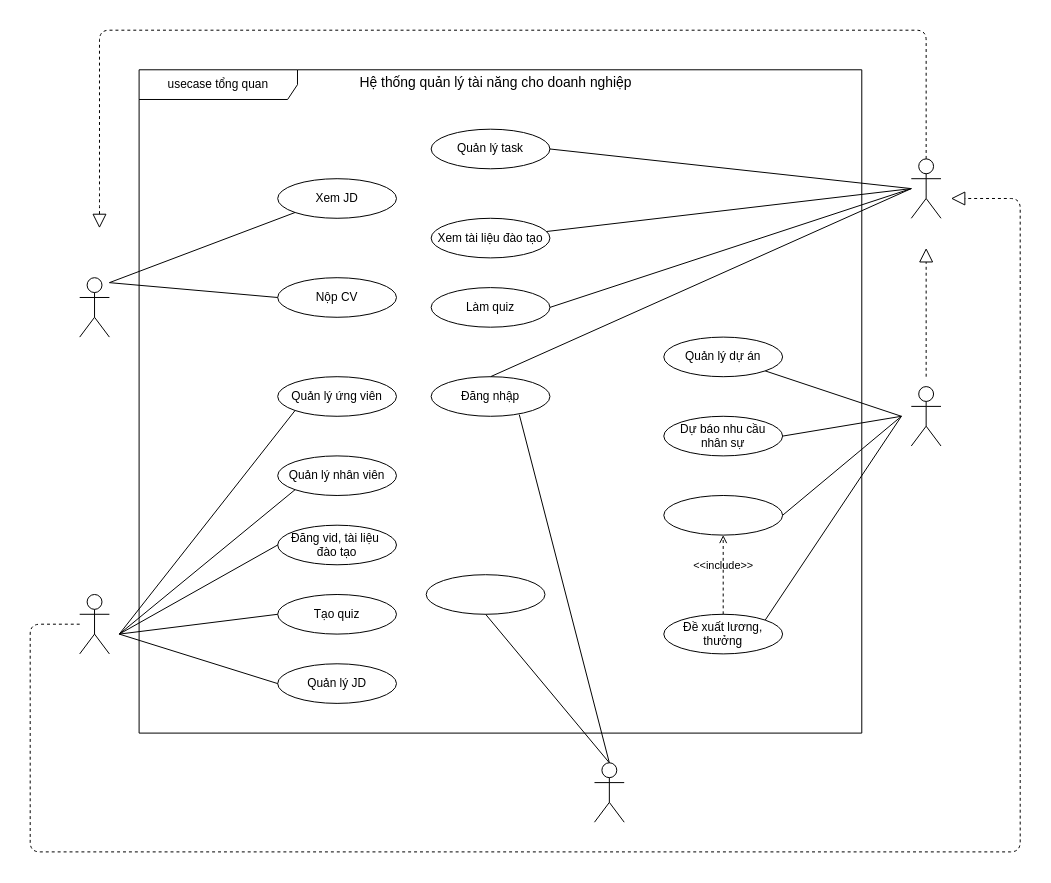
This 1051x883 diagram has some shape labels left out. Here are the shapes that lost their labels. From the top down, the centre of each, then its label:
At (925,188): "Nhân viên".
At (94,307): "Khách".
At (925,416): "Quản lý (TL, CEO)".
At (723,515): "Đánh giá hiệu suất".
At (485,594): "Tạo tài khoản".
At (94,624): "Nhân sự (HR )".
At (609,792): "admin".
